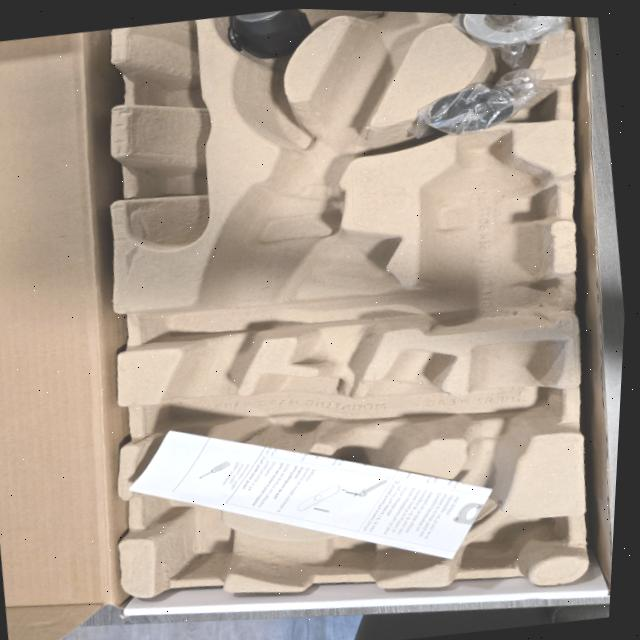1m: (132, 11, 565, 582)
2m: (226, 349, 458, 520)
3m: (413, 126, 562, 334)
4m: (123, 20, 210, 248)
5: (229, 9, 311, 60)
6: (450, 13, 570, 66)
7: (418, 69, 558, 137)
8: (128, 430, 492, 560)
